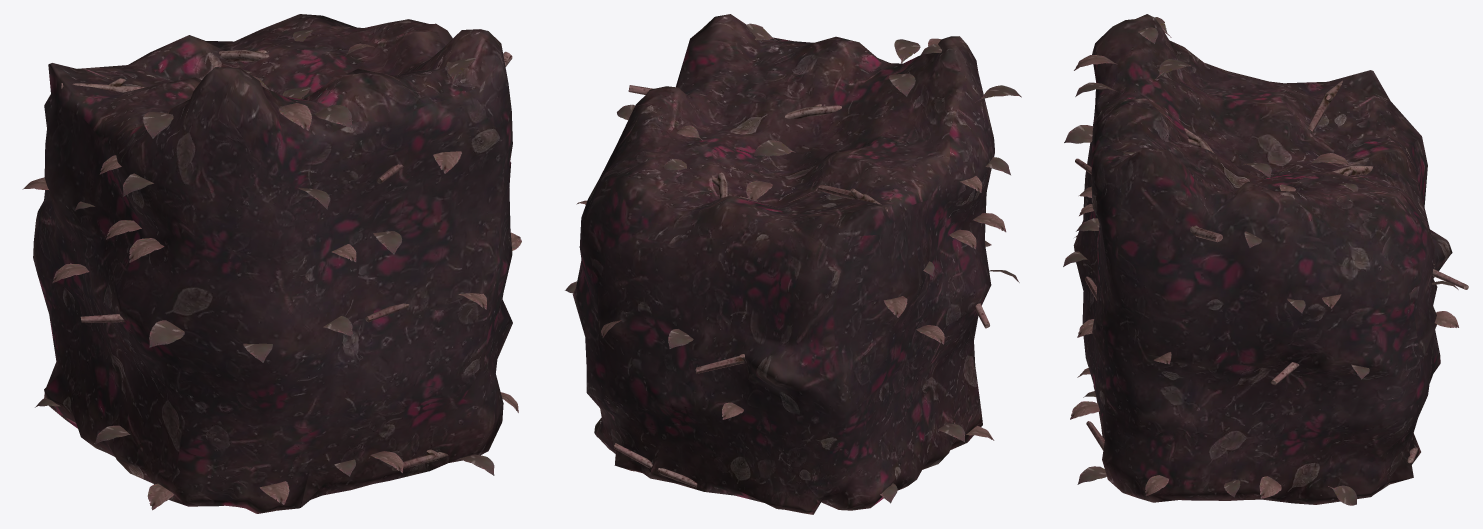
3 views of the same model, side by side, from view 1: azimuth 30°, elevation 25°; view 2: azimuth 150°, elevation 25°; view 3: azimuth 270°, elevation 25° (orthographic). The views are drawn at different scales.
Parts seen in each view (by area): view 1: SM_Compost_Ultra_01v3_LOD0; view 2: SM_Compost_Ultra_01v3_LOD0; view 3: SM_Compost_Ultra_01v3_LOD0.
Boxes of the visible parts, x1,y1,x2,y2 form: SM_Compost_Ultra_01v3_LOD0: (22, 14, 521, 513); SM_Compost_Ultra_01v3_LOD0: (565, 14, 1021, 514); SM_Compost_Ultra_01v3_LOD0: (1063, 14, 1468, 505).
Bounding box in the file's own units: 1.2 × 1.18 × 1.16.
1 material, 1 textured.
